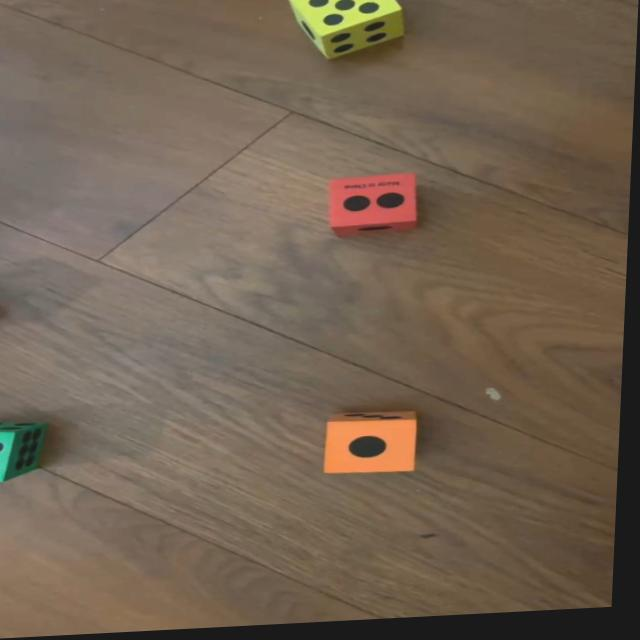cube: (329, 177, 420, 241), (0, 420, 49, 484)
